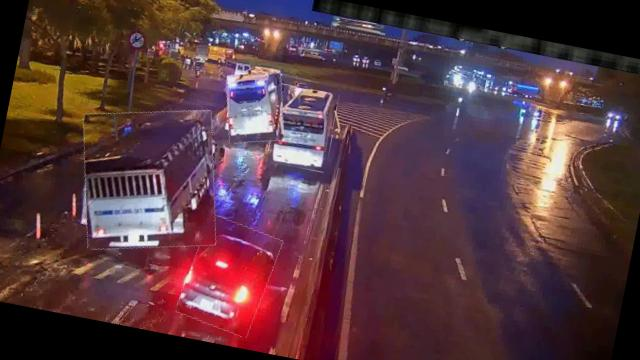Bus: (266, 83, 340, 172), (218, 66, 292, 148)
Car: (178, 215, 280, 338)
Truck: (66, 93, 232, 266)
